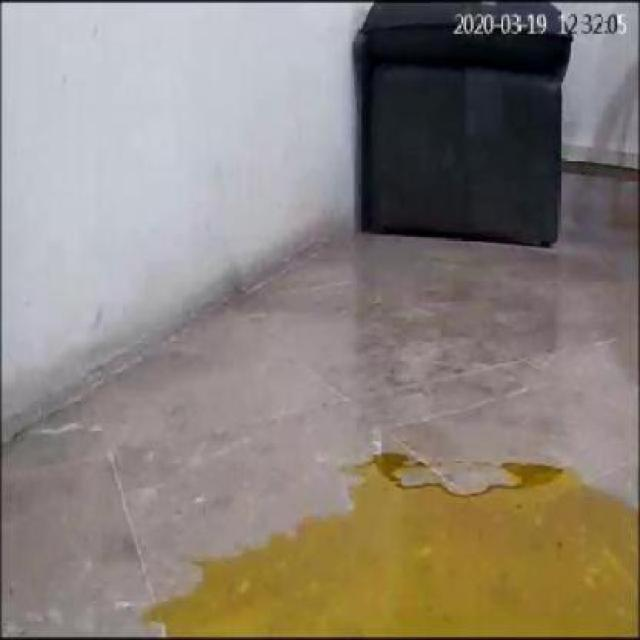spillage: (146, 455, 640, 640)
